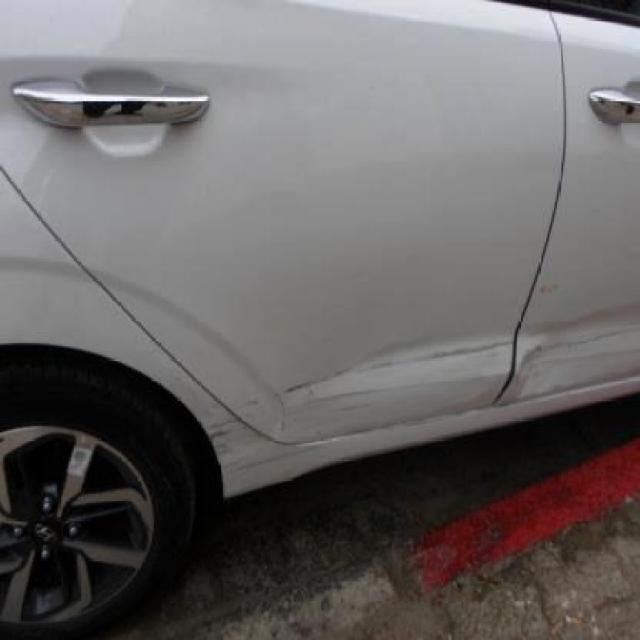car damage: (322, 325, 520, 398), (515, 293, 640, 398)
